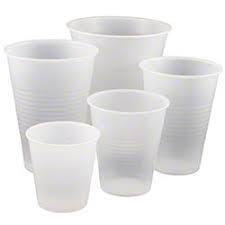Plastic cup: (4, 3, 225, 225)
